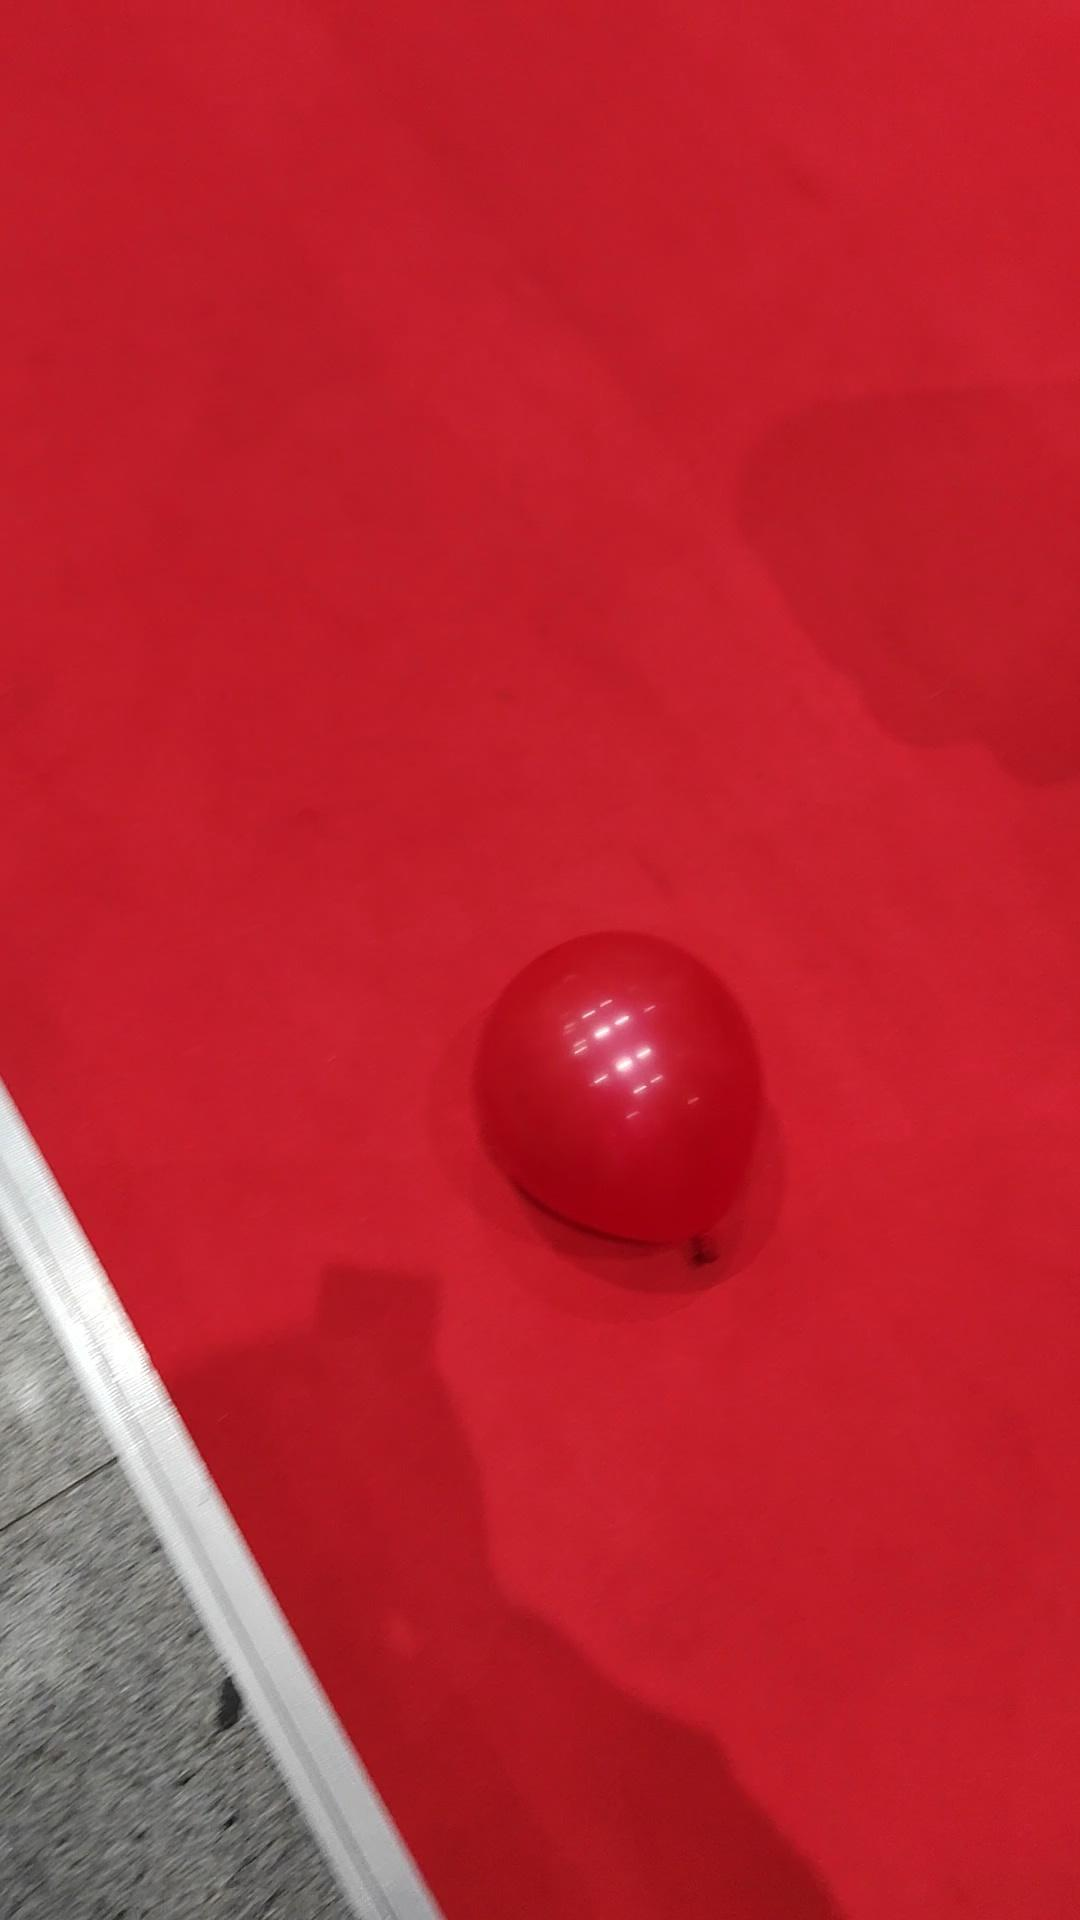red: (476, 930, 765, 1247)
